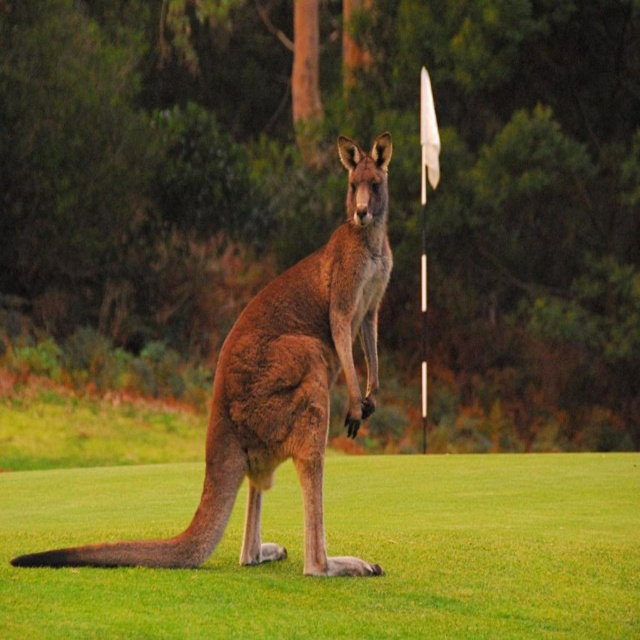Kangaroo: (8, 133, 392, 574)
